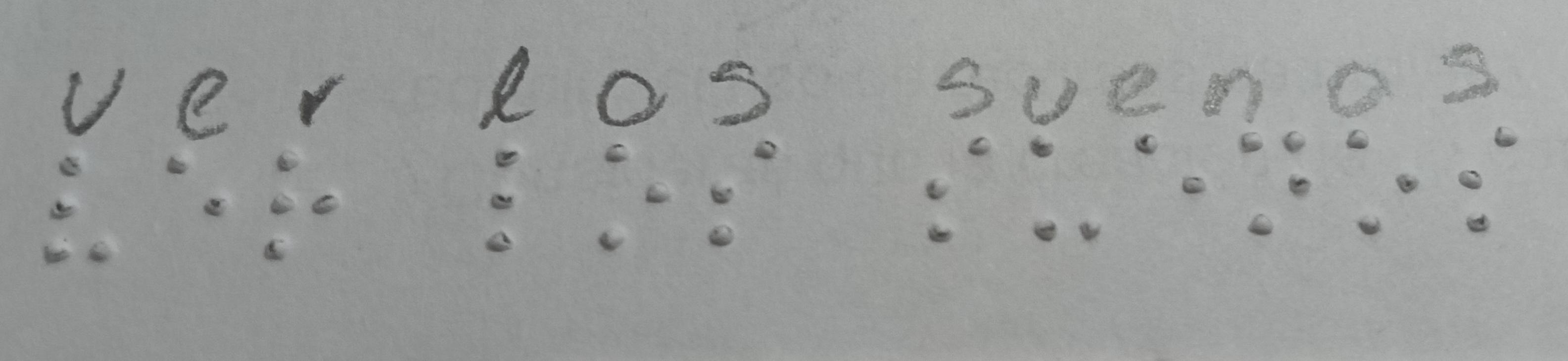e: (148, 133, 236, 235), (1123, 130, 1207, 211)
l: (482, 133, 544, 254)
n: (1232, 125, 1318, 240)
o: (589, 137, 673, 257), (1338, 123, 1417, 245)
r: (264, 142, 345, 270)
s: (1433, 119, 1529, 247), (904, 125, 993, 252), (706, 137, 780, 247)
u: (1016, 132, 1110, 252)
v: (28, 135, 130, 268)
